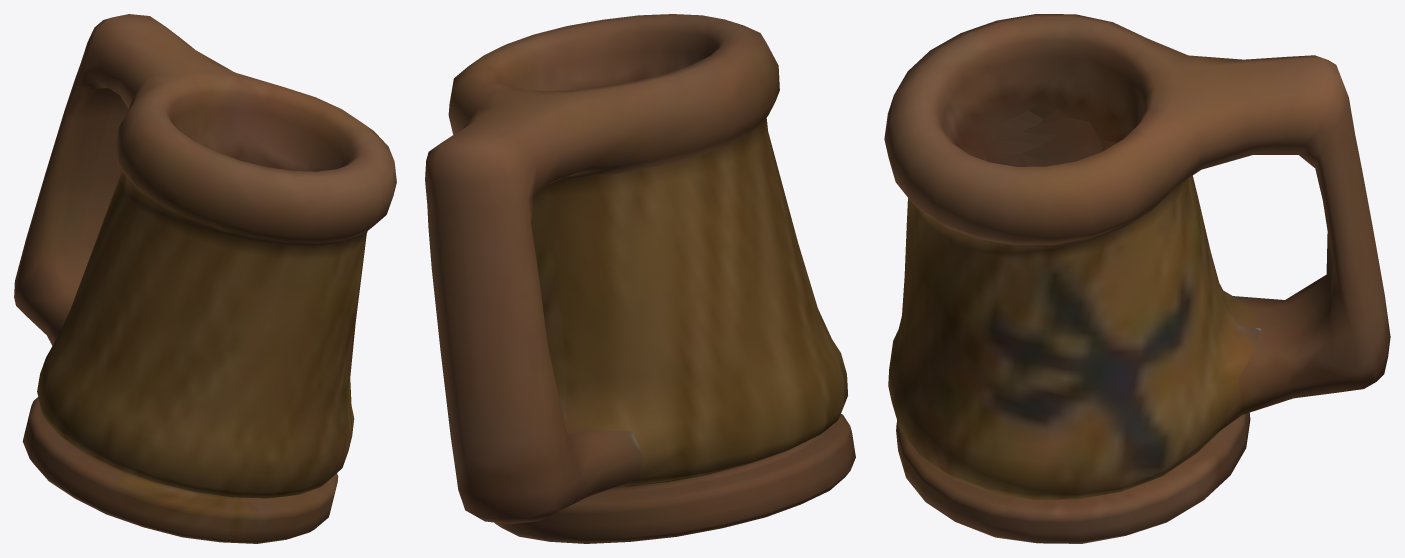
File: Mug_1.glb
3 renders of one model, left to right at view 1: azimuth 30°, elevation 25°; view 2: azimuth 150°, elevation 25°; view 3: azimuth 270°, elevation 25°, orthographic. The views are drawn at different scales.
Visible parts, largest first — view 1: Body.003; view 2: Body.003; view 3: Body.003.
Boxes of the visible parts, left/top/right/bottom form: Body.003: left=14, top=14, right=396, bottom=543; Body.003: left=425, top=14, right=855, bottom=543; Body.003: left=884, top=14, right=1390, bottom=543.
Bounding box in the file's own units: 0.3223 × 0.3822 × 0.3951.
Materials: 1 (1 with a texture image).
